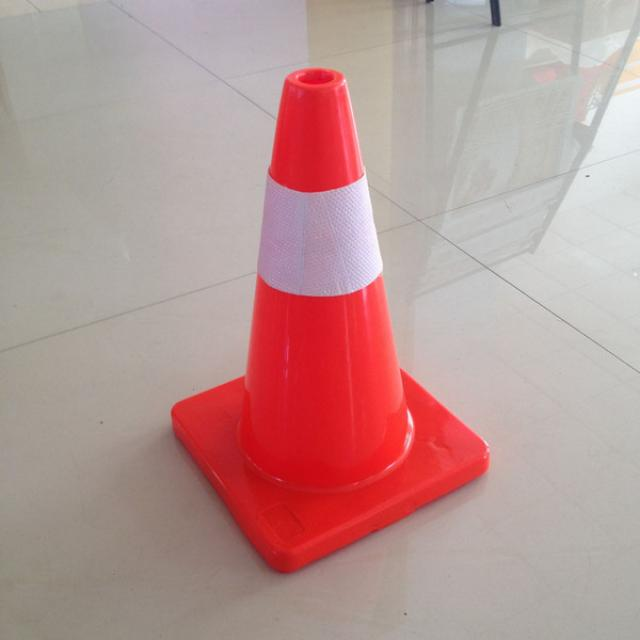reflective_cone: (162, 64, 496, 570)
